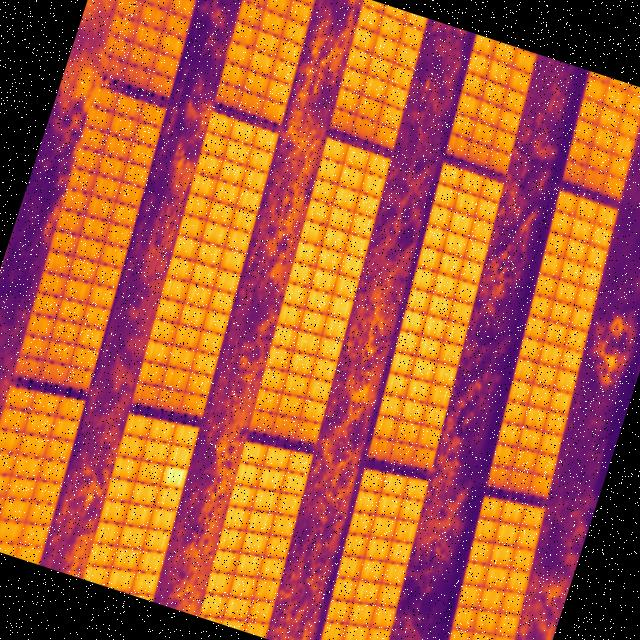Hotspot: (158, 461, 191, 494)
